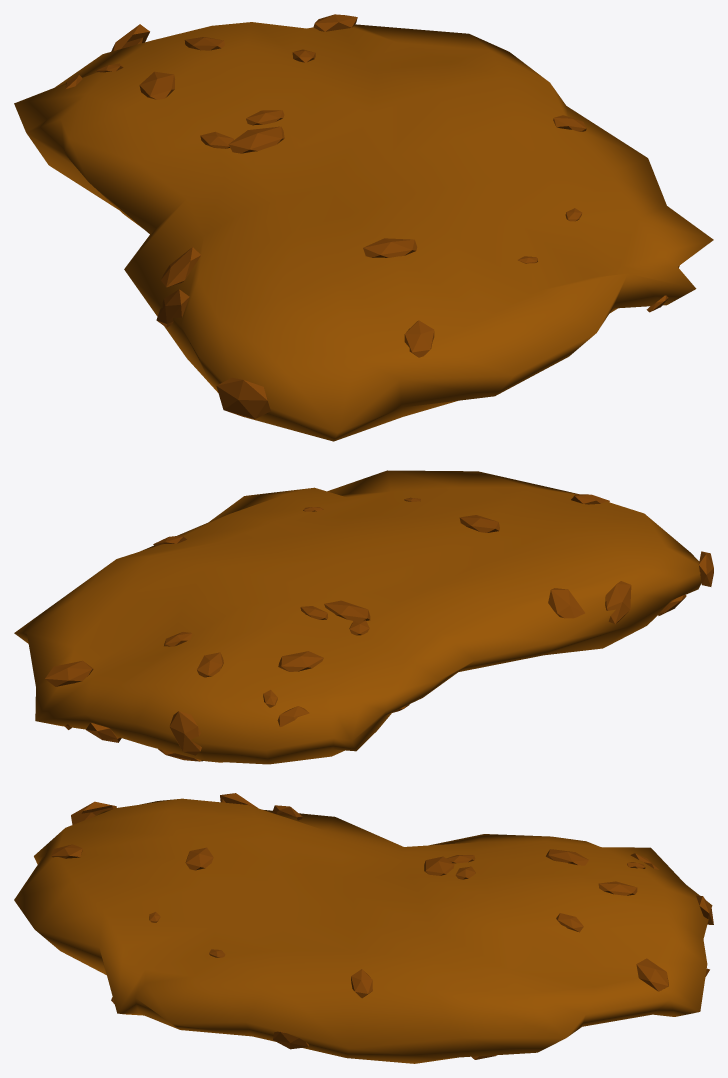
The model's file is mdl_poland_schabowy.gltf.
3 views of the same model, one above another, from view 1: azimuth 30°, elevation 25°; view 2: azimuth 150°, elevation 25°; view 3: azimuth 270°, elevation 25° (orthographic). The views are drawn at different scales.
Parts seen in each view (by area): view 1: Plane.003, Icosphere.014; view 2: Plane.003, Icosphere.014; view 3: Plane.003, Icosphere.014.
Boxes of the visible parts, <box> form: Plane.003: <box>14,22,713,441</box>; Icosphere.014: <box>65,14,668,418</box>; Plane.003: <box>14,470,701,764</box>; Icosphere.014: <box>45,494,713,761</box>; Plane.003: <box>14,798,712,1063</box>; Icosphere.014: <box>51,793,713,1059</box>.
Size of the model in its own units: 0.5471 by 0.1101 by 0.7098.
2 materials, 2 textured.
